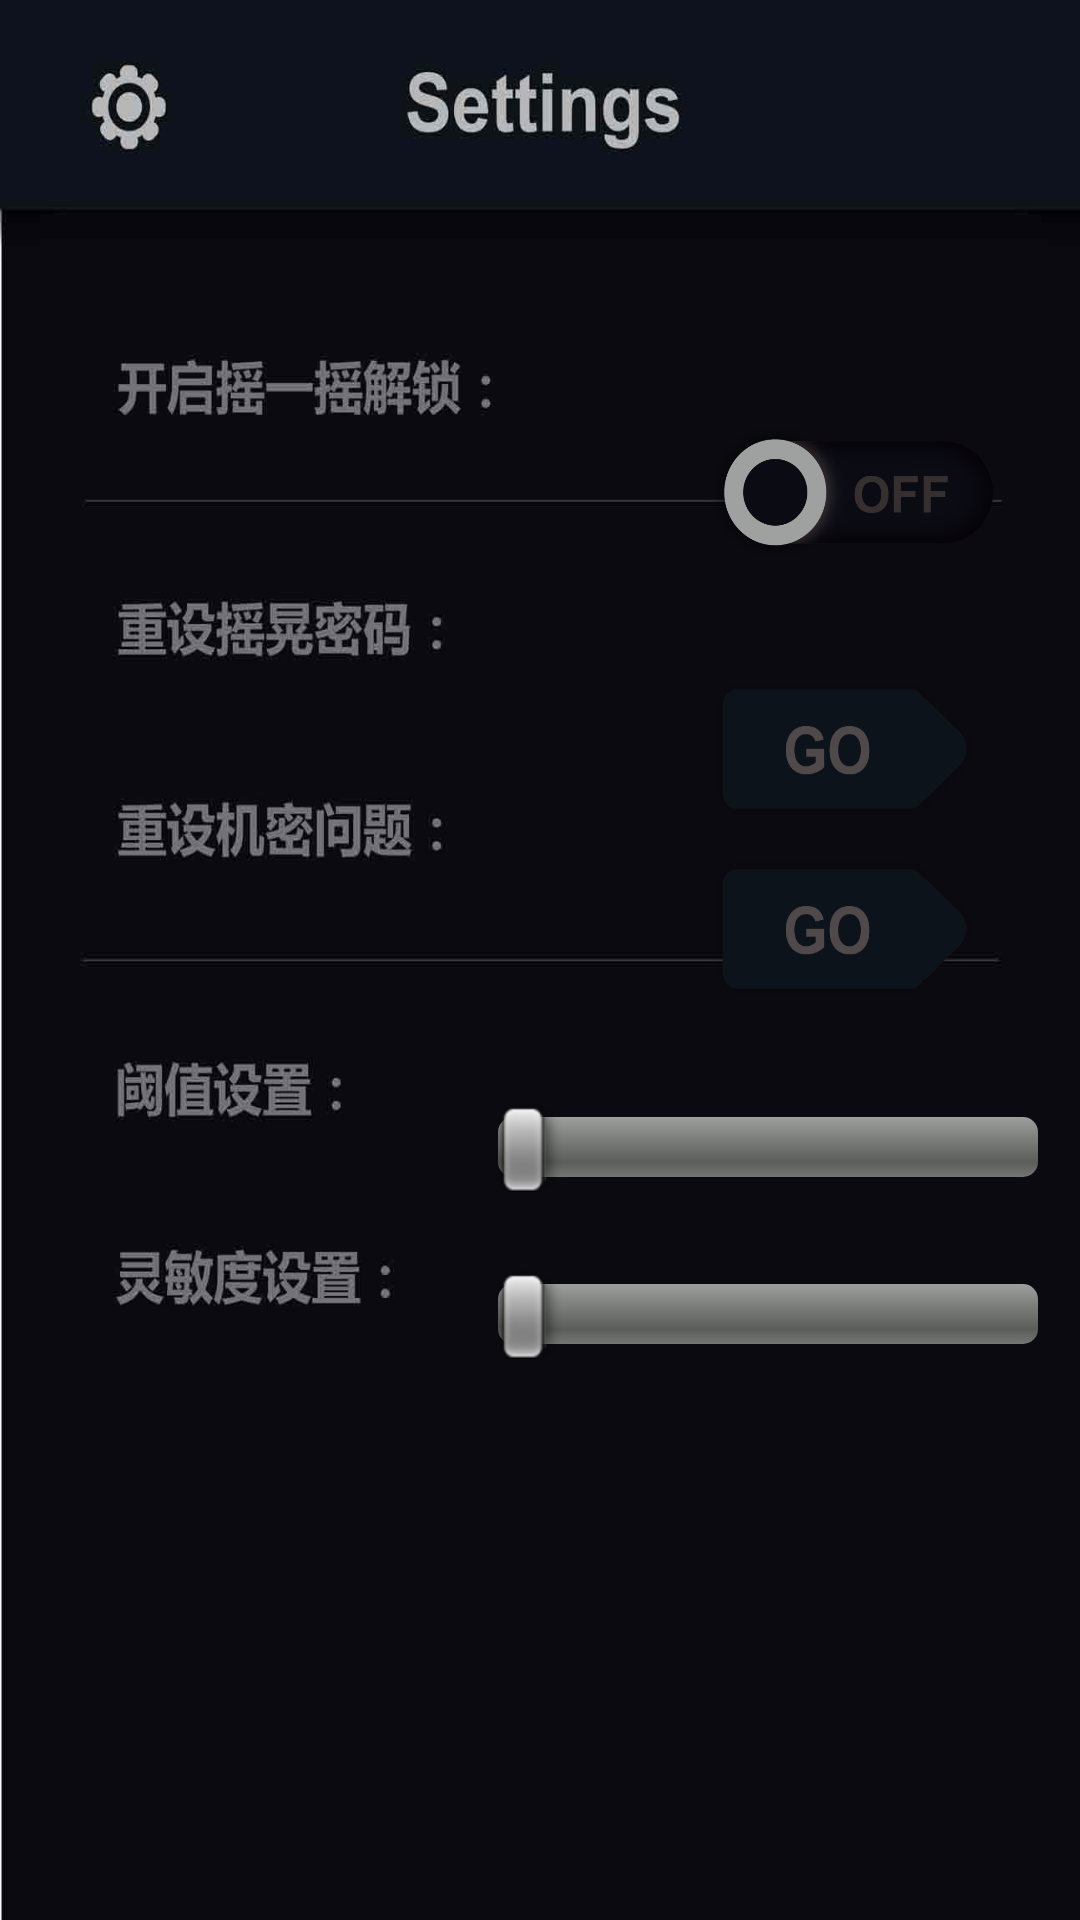

Screen size 1080×1920. Icon name, then its center in pixels as [x,y]:
mycheckbox: [822,492]
